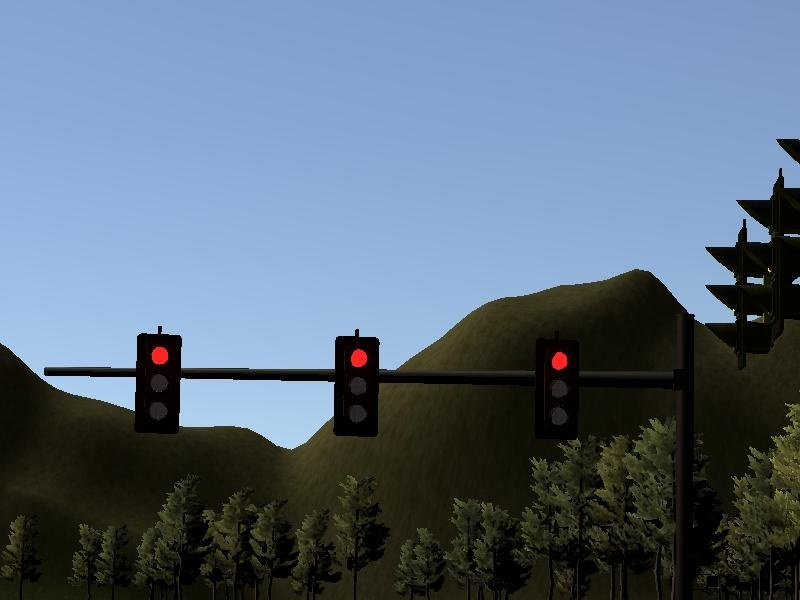traffic_light_red: (117, 328, 641, 437)
